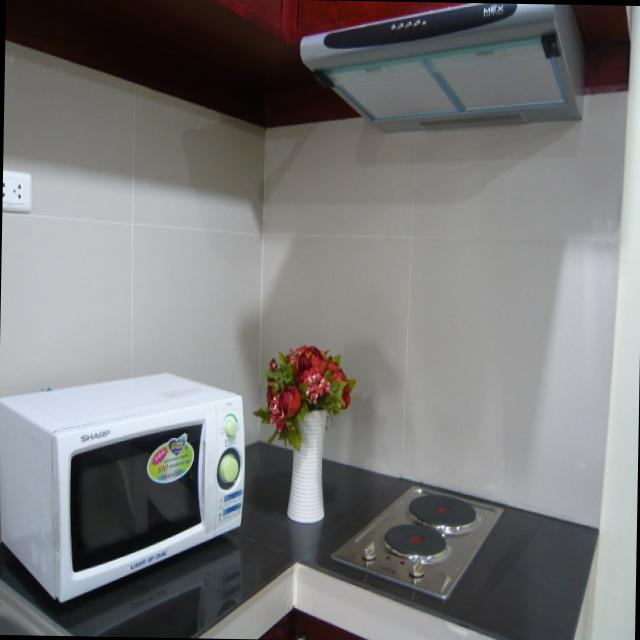burner: (410, 494, 477, 528), (384, 523, 444, 554)
electrical outlet: (3, 168, 34, 212)
flowers in pot: (257, 346, 351, 448)
kitchen island: (298, 3, 591, 134)
knob: (360, 538, 378, 562)
microwave: (0, 371, 242, 603)
push buttons: (389, 12, 429, 32)
sticker: (149, 439, 190, 480)
stovetop: (328, 483, 505, 601)
vase: (265, 344, 353, 525)
